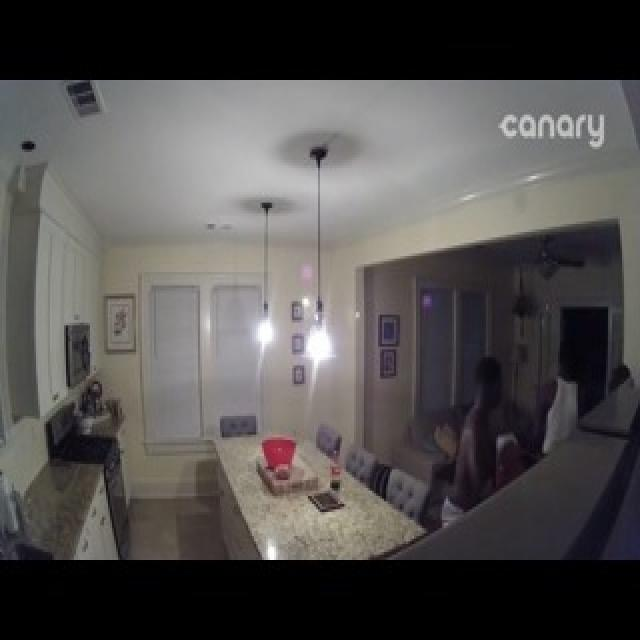thief: (438, 357, 504, 525), (537, 338, 593, 451)
